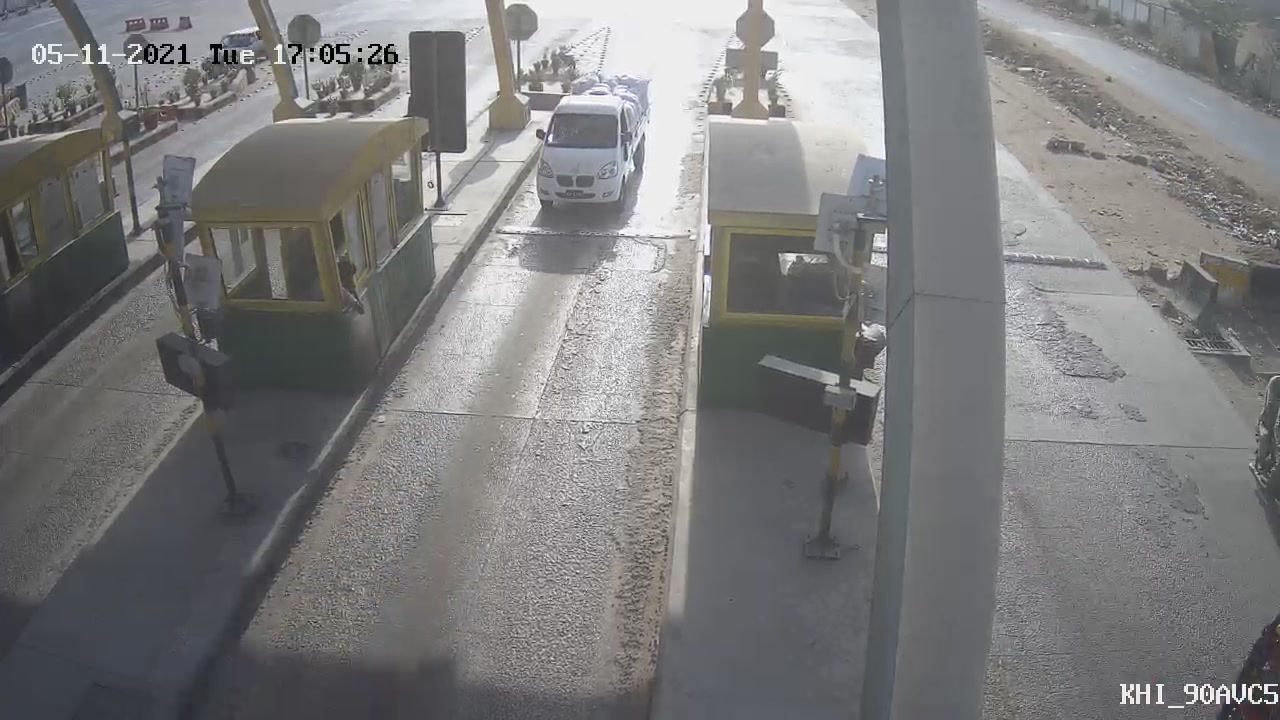F2: (513, 53, 676, 234)
